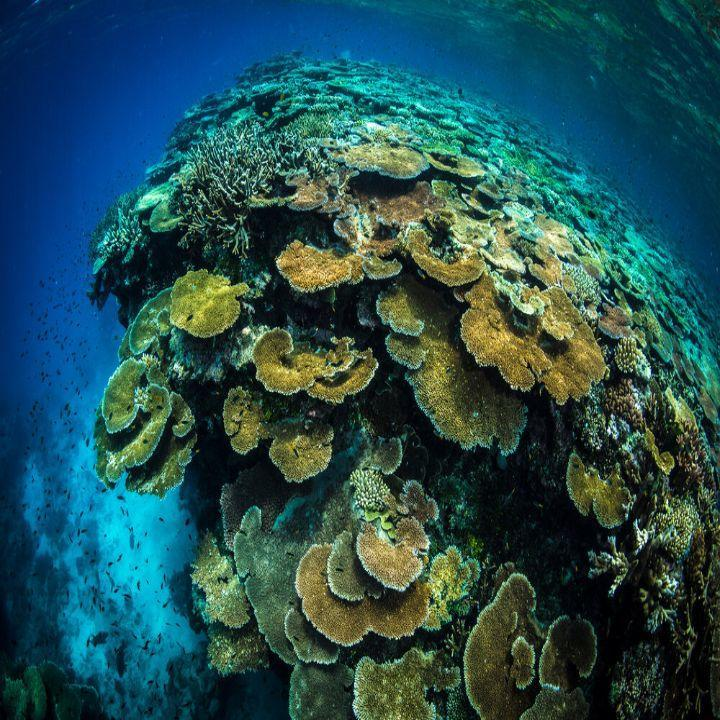Healthy Coral: (92, 58, 716, 719)
